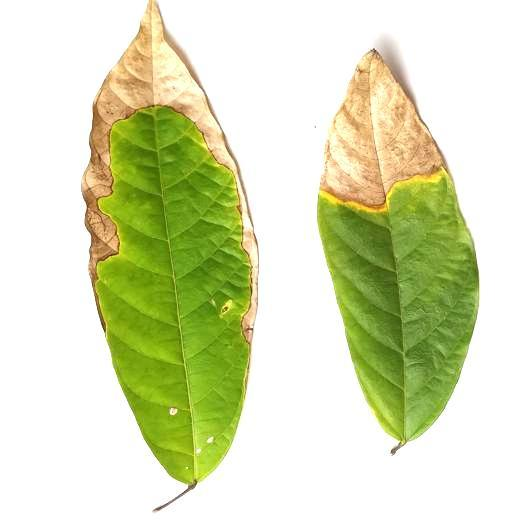Potassium: (82, 0, 257, 494), (319, 50, 478, 453)
